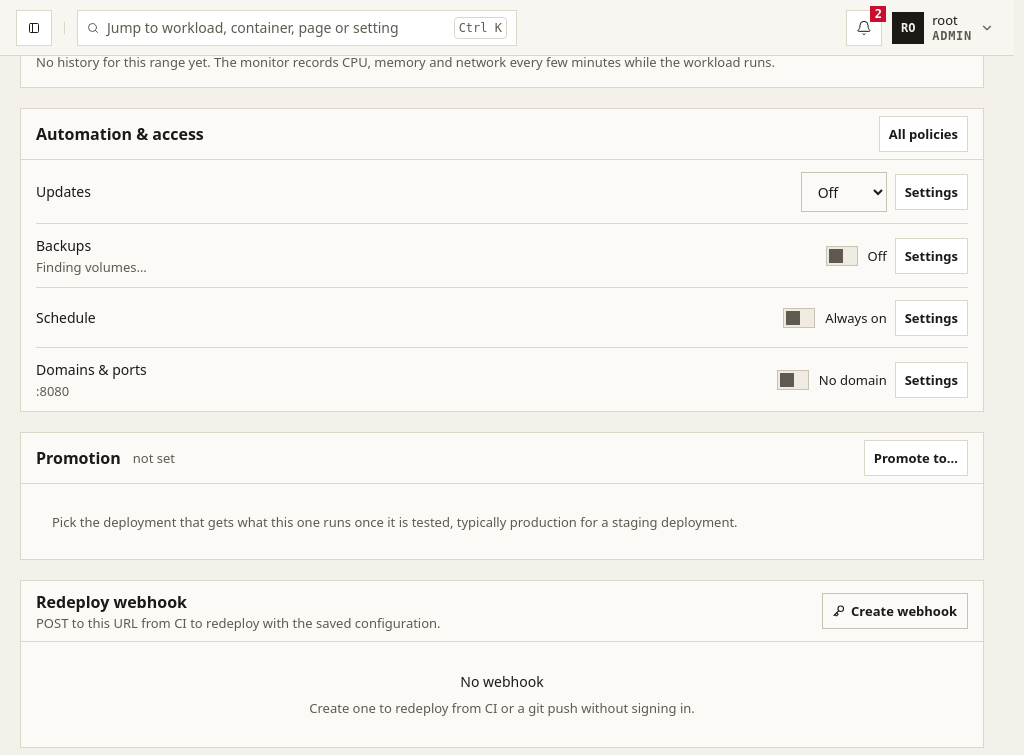
promotion panel › pairs a deployment with its production
(page scrolled)
Expected: the text "not set" is shown, [133, 448, 175, 468]
Click the button "Promote to…" at (916, 458), box [864, 440, 968, 476]
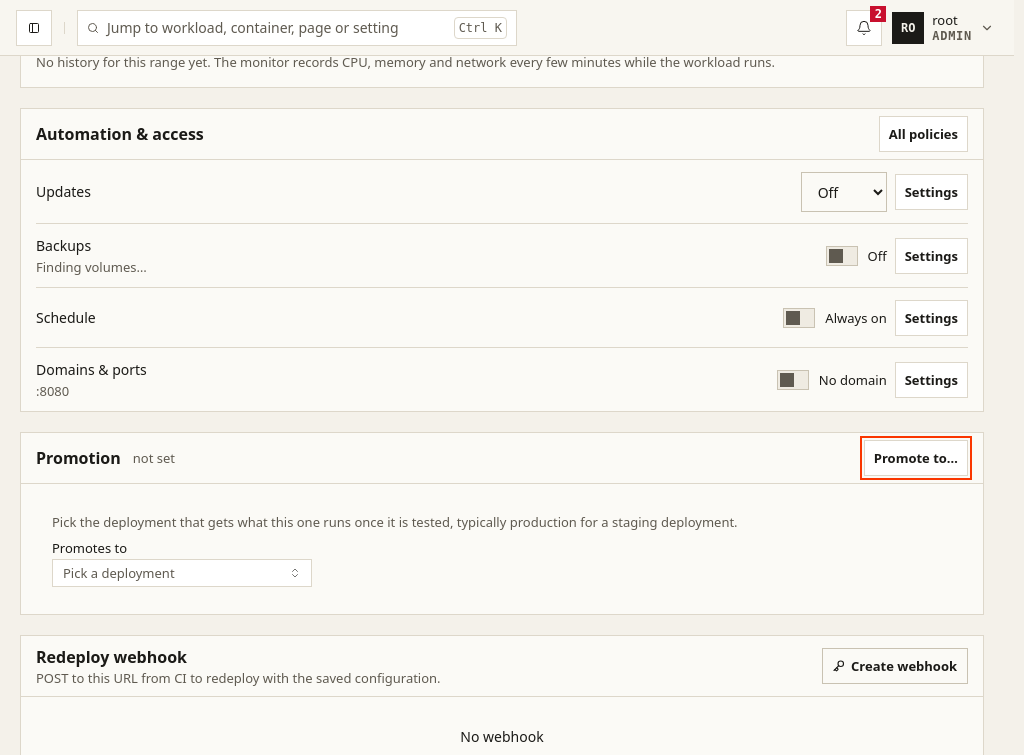
Click the dropdown named "Promotes to" at (119, 573), box [52, 559, 312, 587]
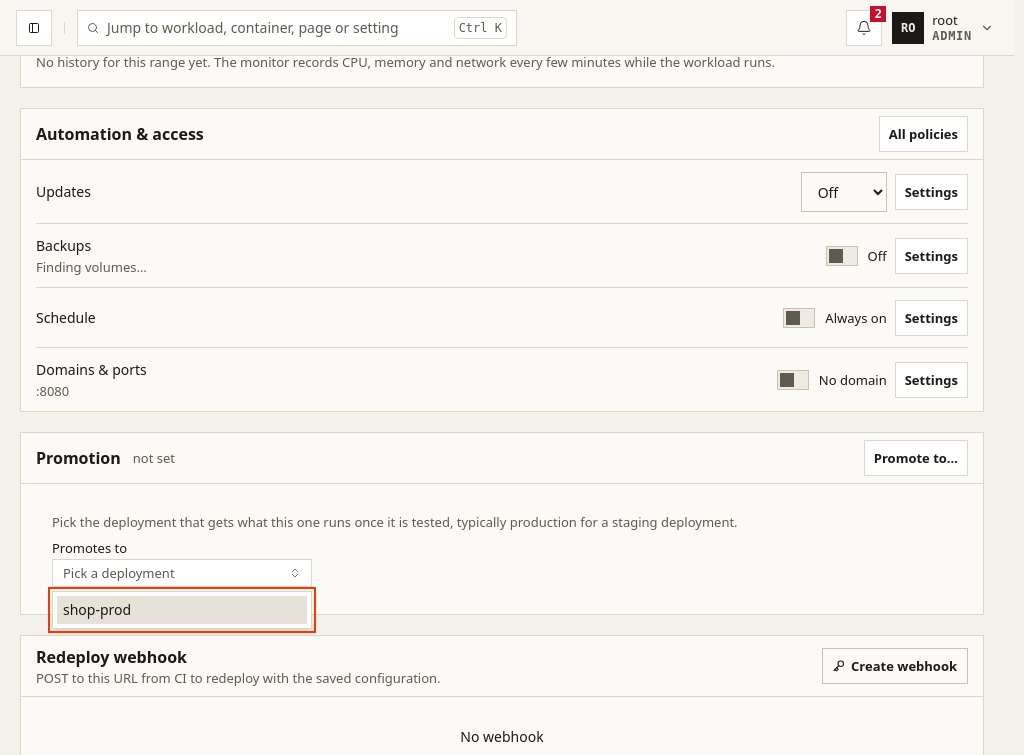
Click the option "shop-prod" at (182, 610), box [57, 596, 307, 624]
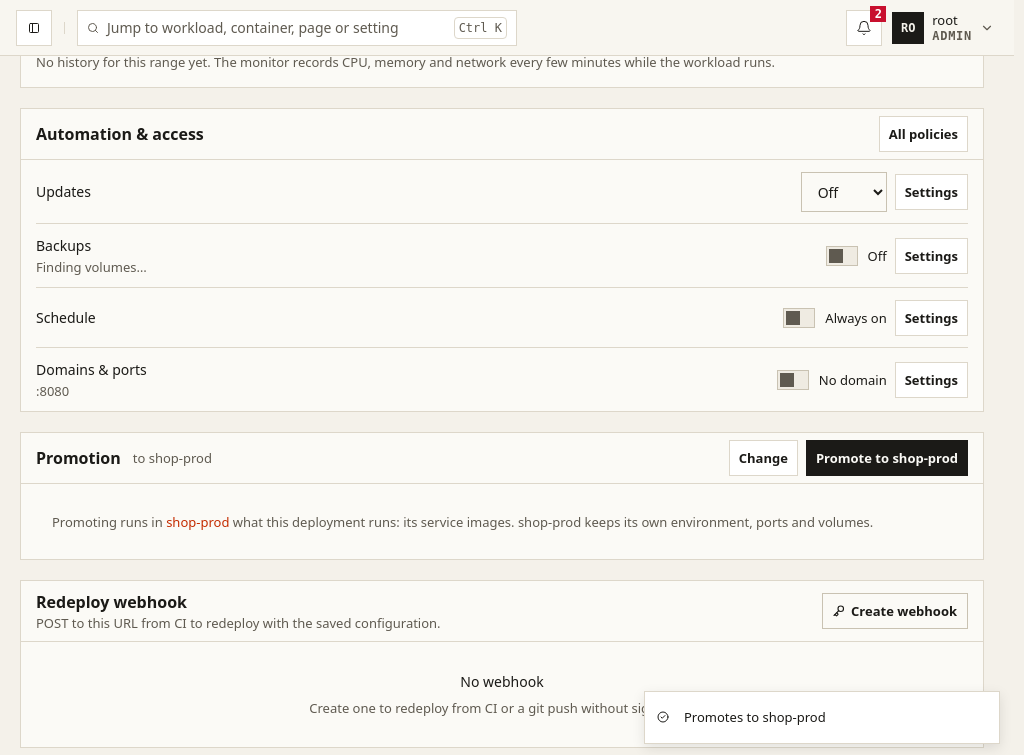
Expected: the text "Promotes to shop-prod" is shown, [684, 708, 826, 727]
